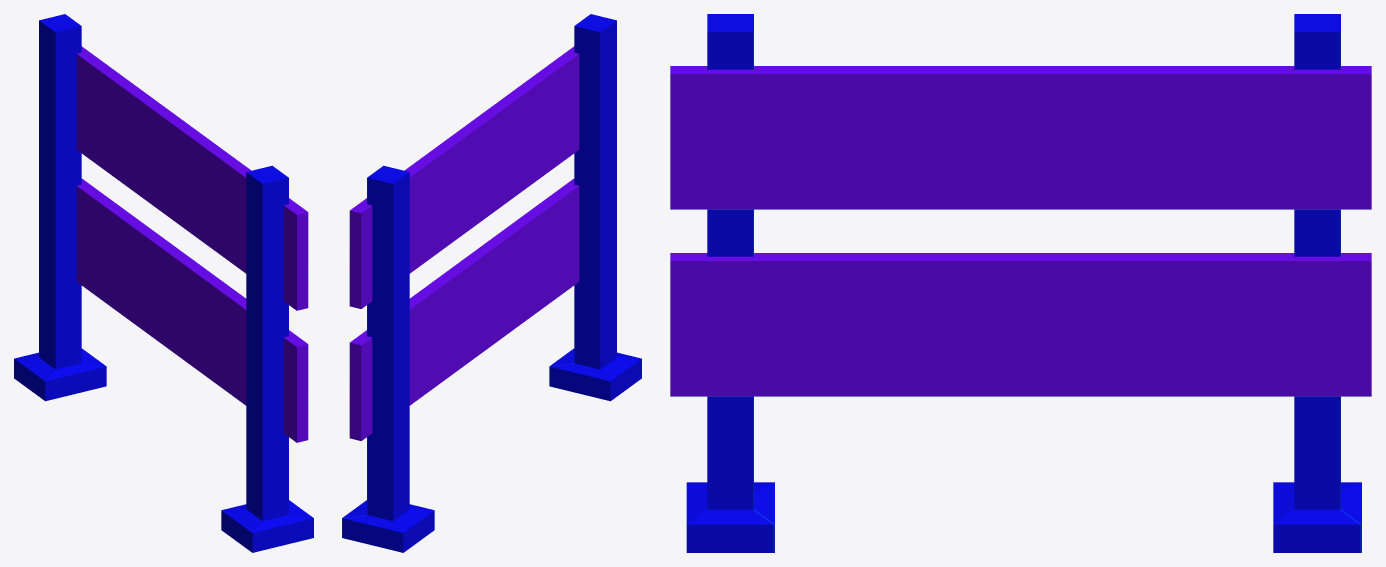
Rendered from Barrier.fbx.
The picture shows the model from 3 angles, left to right: view 1: azimuth 30°, elevation 25°; view 2: azimuth 150°, elevation 25°; view 3: azimuth 270°, elevation 25°; orthographic projection. The views are drawn at different scales.
Visible parts, largest first — view 1: Barrier; view 2: Barrier; view 3: Barrier.
Part boxes in pixels (box(x1,y1,x2,y2)): Barrier: box(14, 14, 313, 552); Barrier: box(342, 14, 641, 552); Barrier: box(670, 14, 1371, 552).
Size of the model in its own units: 6.53 by 36.52 by 45.63.
